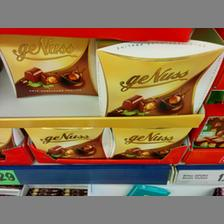Schokolade: (95, 39, 219, 115), (0, 34, 96, 99)
